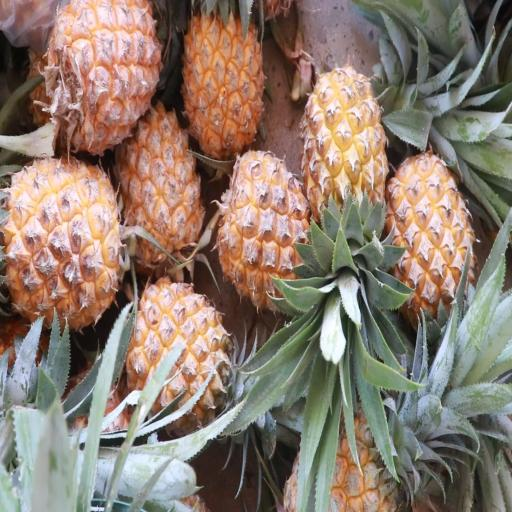Pineapple - v8 v1: (0, 150, 129, 333), (45, 0, 168, 163), (125, 274, 240, 432), (382, 151, 477, 338), (215, 147, 317, 317), (298, 64, 386, 261), (115, 97, 205, 274), (180, 0, 268, 173)
